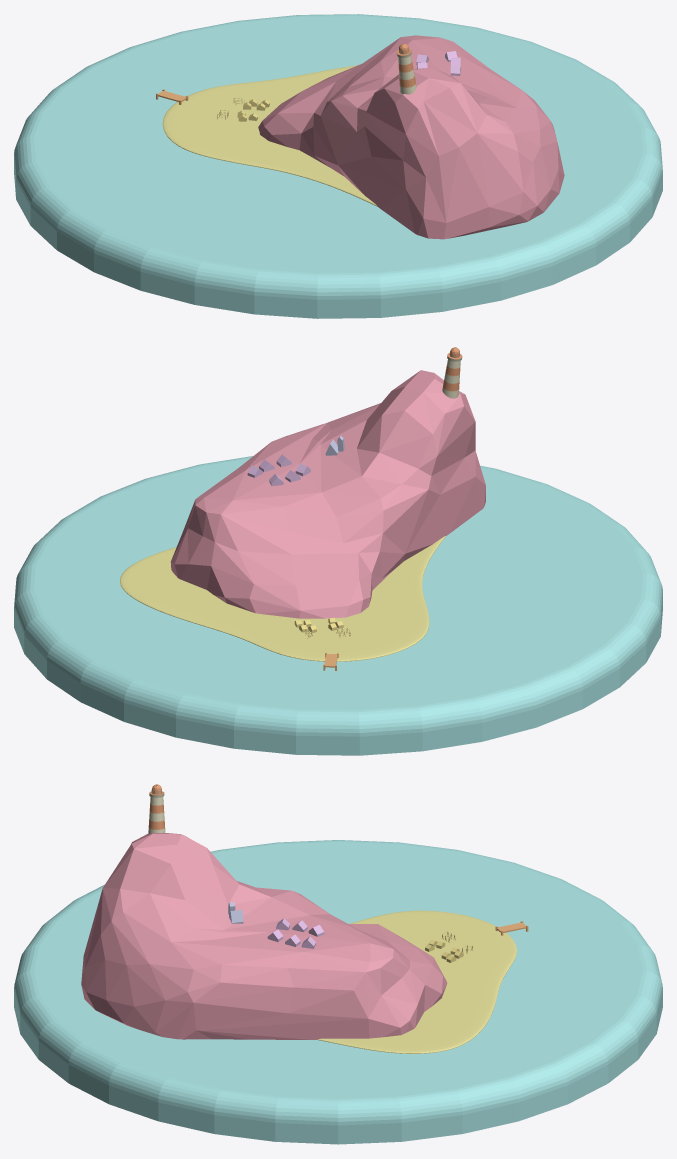
The model's file is island.glb.
3 views of the same model, one above another, from view 1: azimuth 30°, elevation 25°; view 2: azimuth 150°, elevation 25°; view 3: azimuth 270°, elevation 25° (orthographic).
Parts seen in each view (by area): view 1: ocean, island, beach, lighthouse, fishermenVillage, houses; view 2: ocean, island, beach, houses, lighthouse; view 3: ocean, island, beach, houses, lighthouse.
Boxes of the visible parts, x1,y1,x2,y2 form: ocean: (14, 14, 662, 318); island: (258, 35, 564, 239); beach: (162, 65, 377, 206); lighthouse: (396, 43, 416, 94); fishermenVillage: (217, 98, 269, 121); houses: (416, 51, 460, 75); ocean: (14, 456, 662, 755); island: (170, 370, 485, 618); beach: (120, 536, 445, 661); houses: (247, 454, 310, 486); lighthouse: (442, 347, 462, 398); ocean: (14, 840, 662, 1144); island: (81, 833, 447, 1039); beach: (317, 910, 516, 1053); houses: (267, 918, 324, 948); lighthouse: (148, 784, 165, 834).
Size of the model in its own units: 25.02 by 8.94 by 25.02.
Materials: 8 (1 with a texture image).
